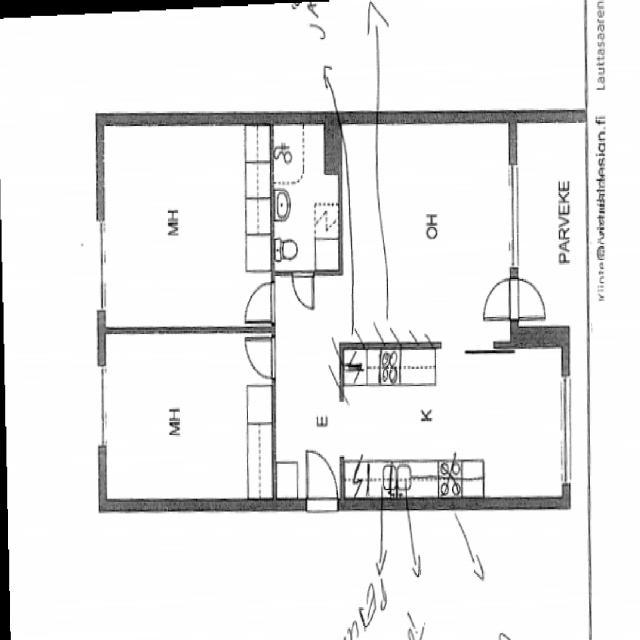door: (307, 452, 337, 509), (510, 278, 546, 319), (483, 278, 518, 319), (245, 337, 275, 378), (246, 282, 275, 322), (292, 270, 314, 308)
